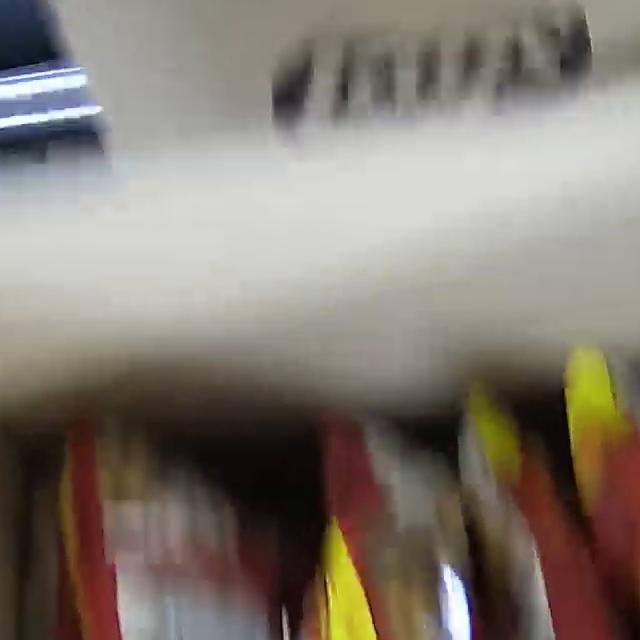masala: (7, 328, 640, 640)
